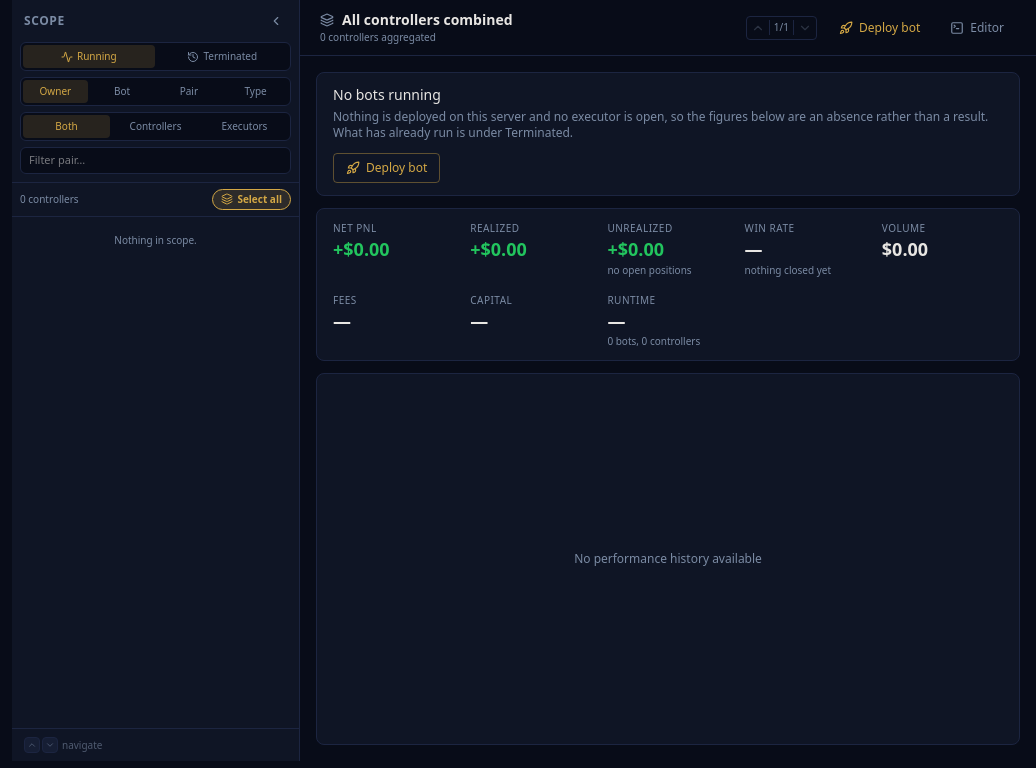
it: /bots with no live fleet › reaches the terminated tree from an empty running fleet in one click
What coordinates should you click on to do the following:
click the button "Terminated"
I would click on:
 (222, 56)
Its box is [156,45,288,68].
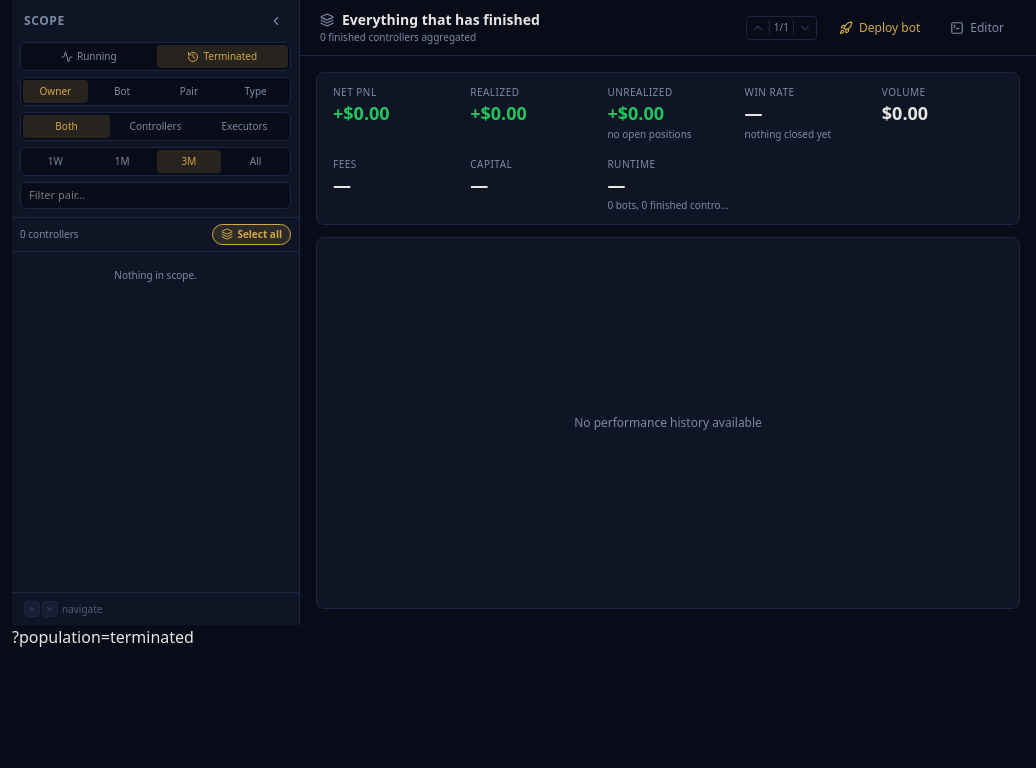
Expected: the text with test id "location" shows "population=terminated", [12,626,194,648]
